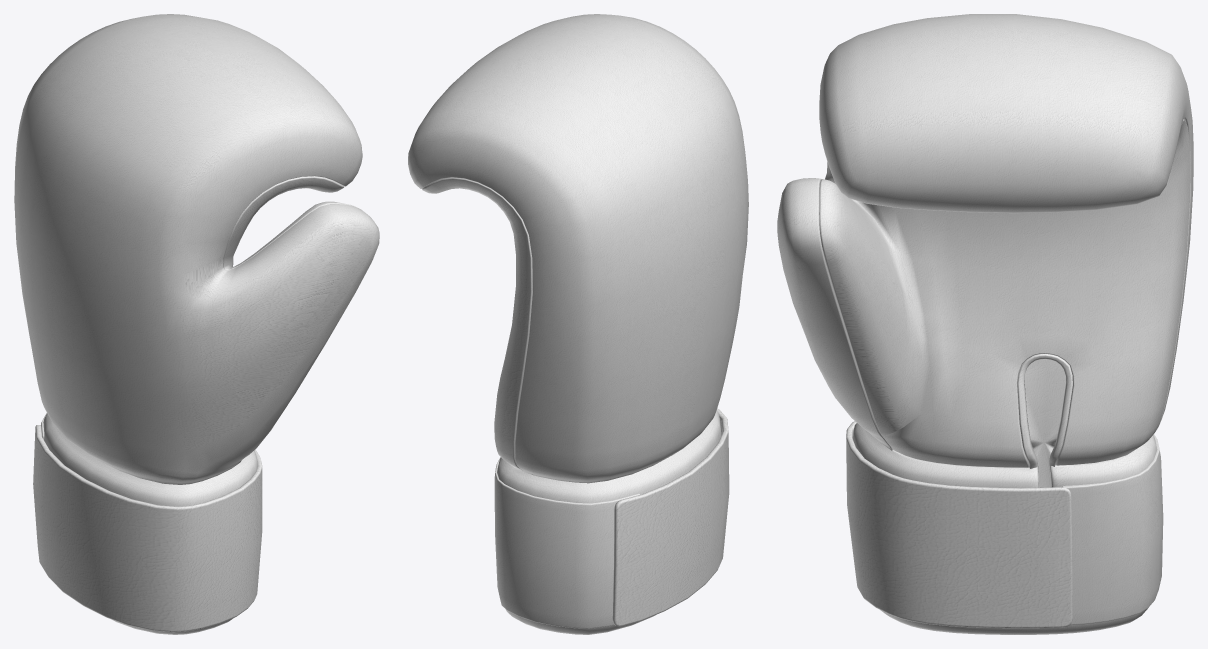
The model's file is rękawice bokserskie061.fbx.
3 views of the same model, side by side, from view 1: azimuth 30°, elevation 25°; view 2: azimuth 150°, elevation 25°; view 3: azimuth 270°, elevation 25° (orthographic). The views are drawn at different scales.
Visible parts, largest first — view 1: rękawice bokserskie061; view 2: rękawice bokserskie061; view 3: rękawice bokserskie061.
Part boxes in pixels (left/top/right/bottom): rękawice bokserskie061: left=14, top=14, right=379, bottom=634; rękawice bokserskie061: left=408, top=14, right=748, bottom=634; rękawice bokserskie061: left=777, top=14, right=1193, bottom=634.
Bounding box in the file's own units: 5.3 × 10.6 × 6.77.
